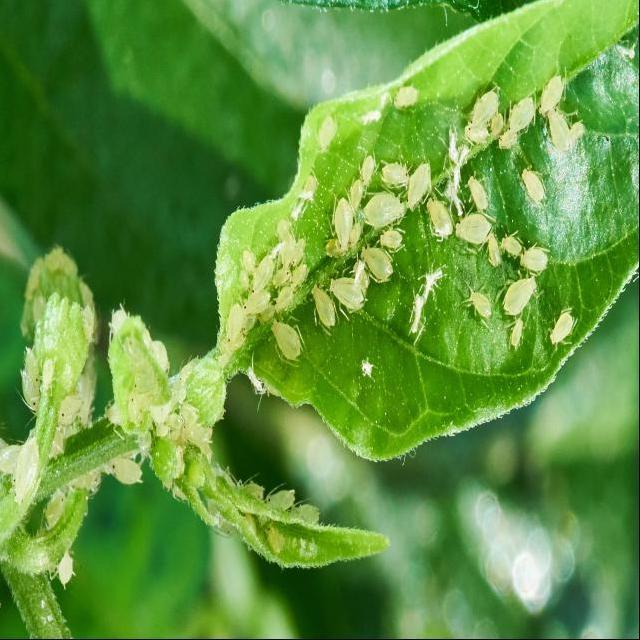aphid: (511, 153, 553, 218), (542, 293, 584, 358), (328, 270, 373, 330), (358, 241, 401, 301), (270, 312, 306, 376), (310, 272, 340, 345), (329, 196, 360, 264), (361, 185, 407, 230), (460, 274, 497, 328), (372, 226, 418, 266), (427, 194, 457, 253), (457, 208, 497, 250), (504, 92, 542, 136), (464, 90, 500, 136), (406, 158, 436, 210), (380, 146, 415, 188), (502, 276, 538, 314), (390, 79, 423, 119), (500, 319, 529, 364), (547, 112, 574, 156), (462, 175, 494, 212), (224, 302, 248, 346), (539, 74, 565, 113), (244, 286, 273, 318), (519, 245, 550, 273), (44, 493, 66, 529), (317, 115, 337, 148), (500, 234, 524, 260), (359, 155, 376, 186)
